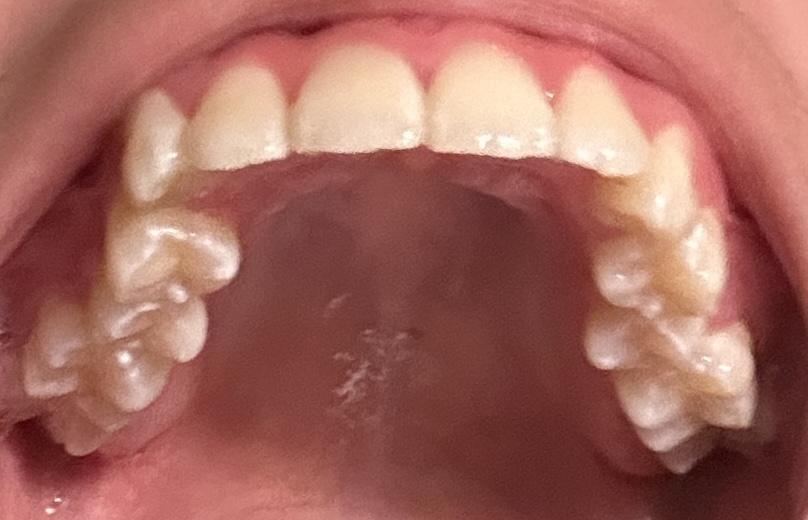teeth: (612, 328, 754, 452), (19, 298, 169, 410), (591, 202, 723, 326), (426, 42, 557, 157), (297, 42, 422, 151), (108, 203, 240, 306), (4, 359, 137, 457), (591, 127, 697, 249), (654, 375, 776, 478), (119, 88, 227, 203), (186, 62, 290, 173), (86, 277, 207, 365), (557, 61, 649, 176), (586, 308, 710, 374)
